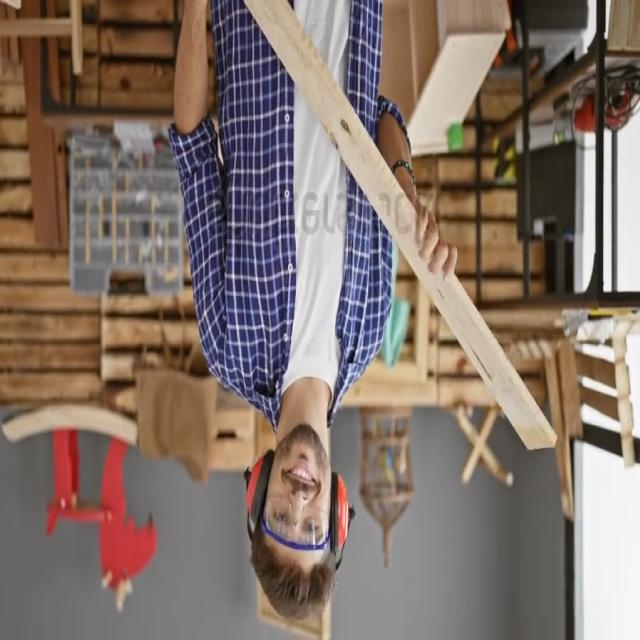goggles: (256, 496, 332, 552)
